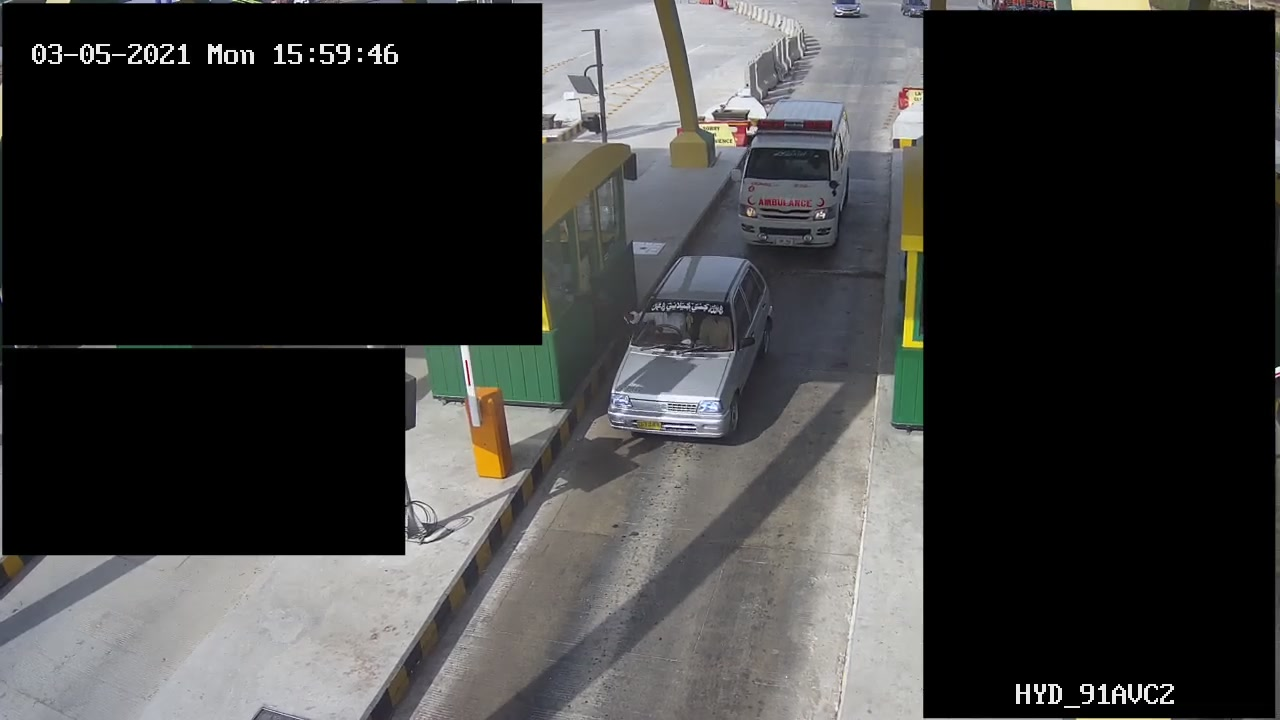F2: (729, 92, 854, 258)
